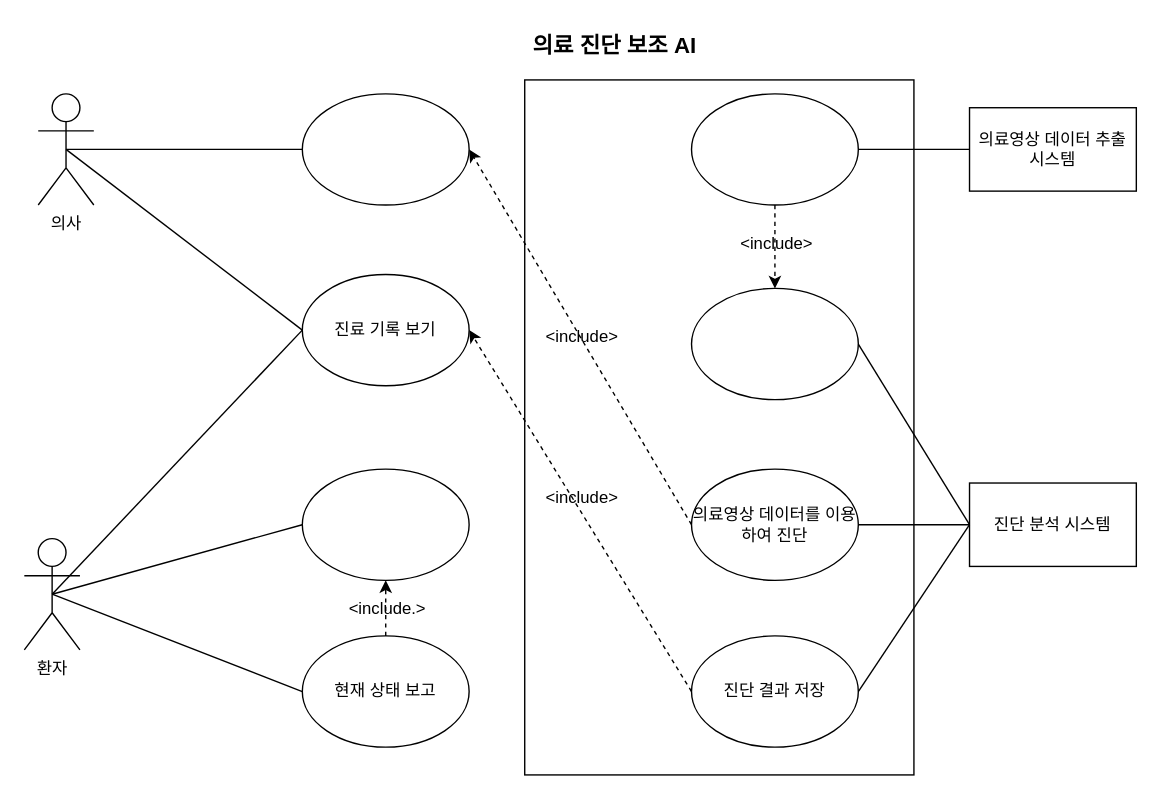
Image size: 1161x799. Some labels were removed from this diagram. Here are the shapes that lost their labels. From the top down, the centre of each, then its label:
At (385,148): "환자에게 메세지 전달".
At (774,148): "의료영상 데이터".
At (774,343): "의료 영상 데이터 분석".
At (385,524): "의사에게 메세지 전달".
